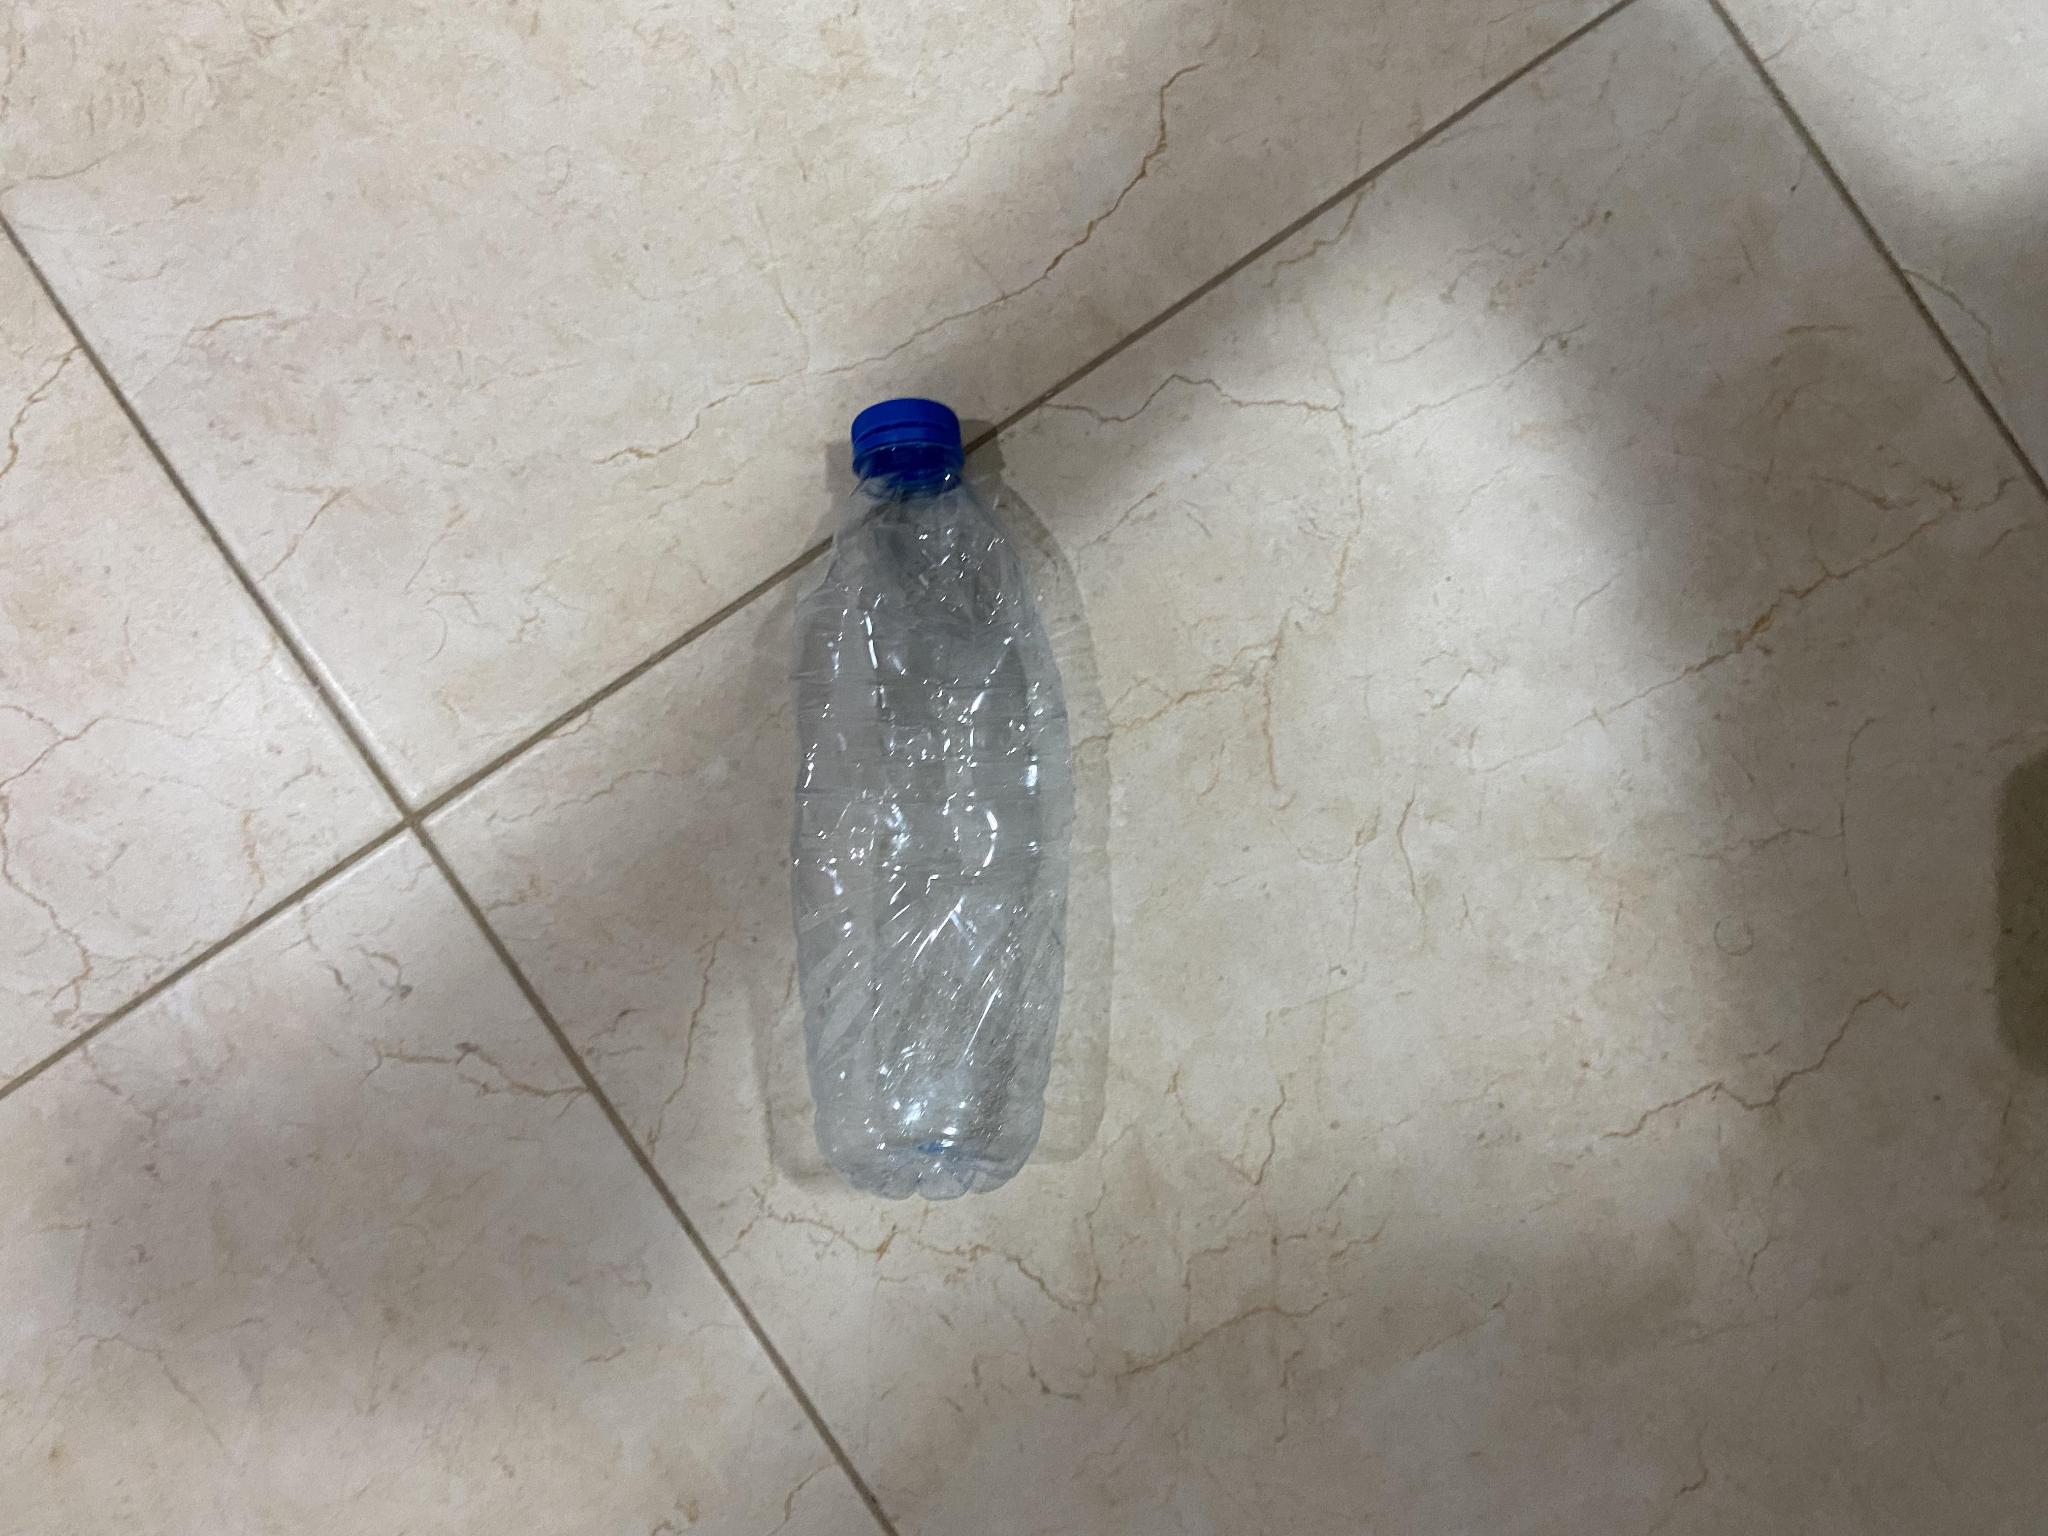bottle: (747, 390, 1085, 1196)
